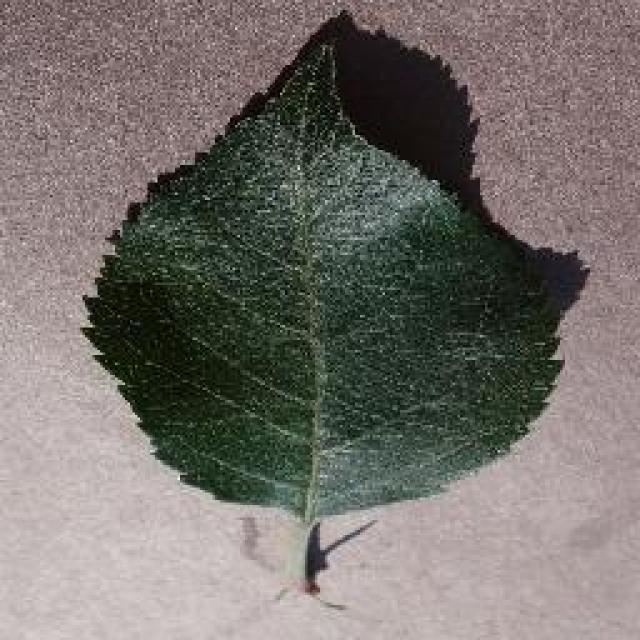Apple___healthy: (65, 7, 590, 625)
